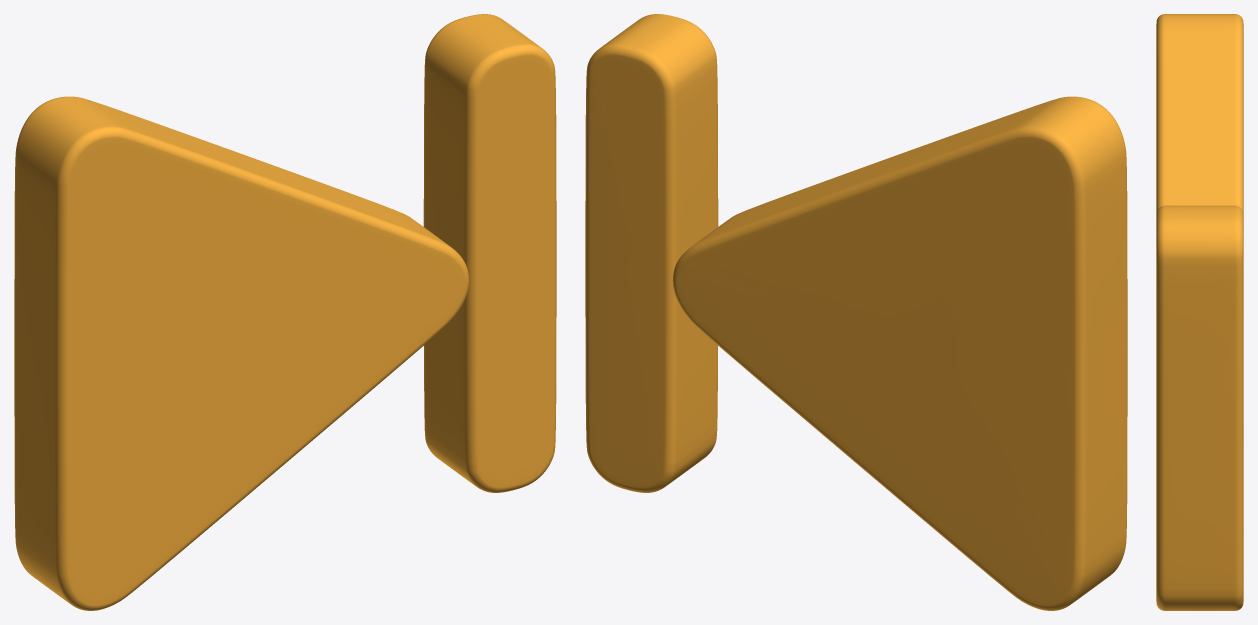
The model's file is next.fbx.
The picture shows the model from 3 angles, left to right: view 1: azimuth 30°, elevation 25°; view 2: azimuth 150°, elevation 25°; view 3: azimuth 270°, elevation 25°; orthographic projection. The views are drawn at different scales.
Visible parts, largest first — view 1: Next; view 2: Next; view 3: Next.
Boxes of the visible parts, x1=… form: Next: x1=14, y1=14, x2=556, y2=610; Next: x1=585, y1=14, x2=1127, y2=610; Next: x1=1156, y1=14, x2=1243, y2=610.
Bounding box in the file's own units: 175 × 161 × 30.
